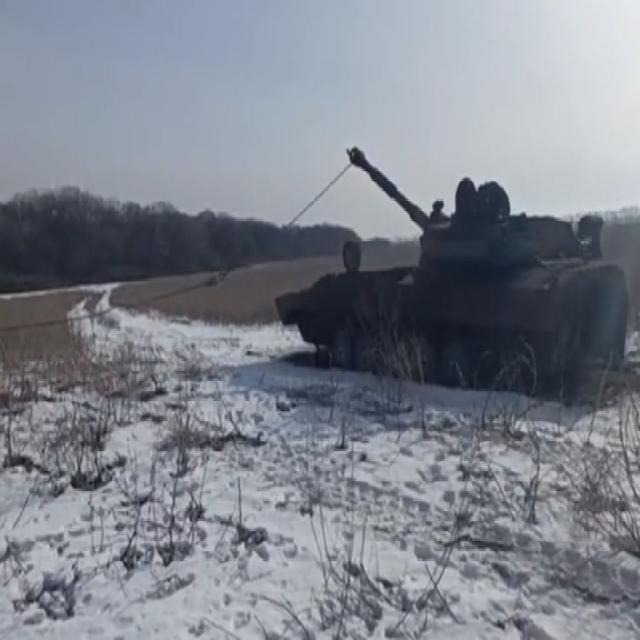ART: (275, 140, 631, 400)
